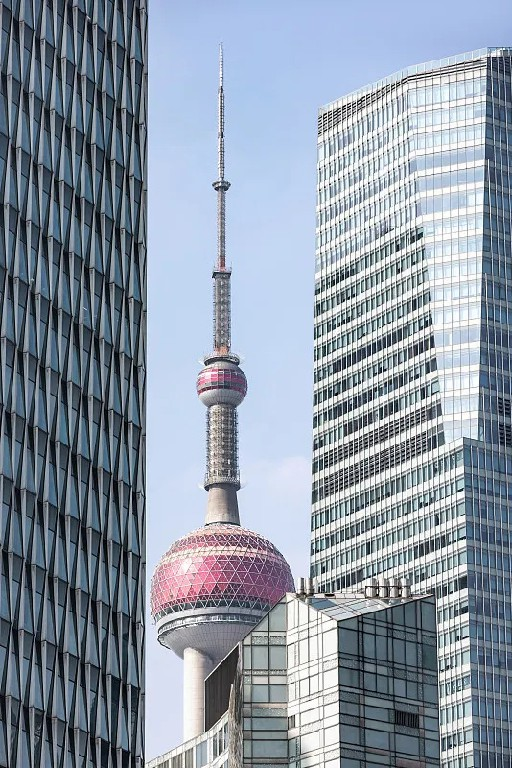Oriental: (151, 42, 296, 742)
